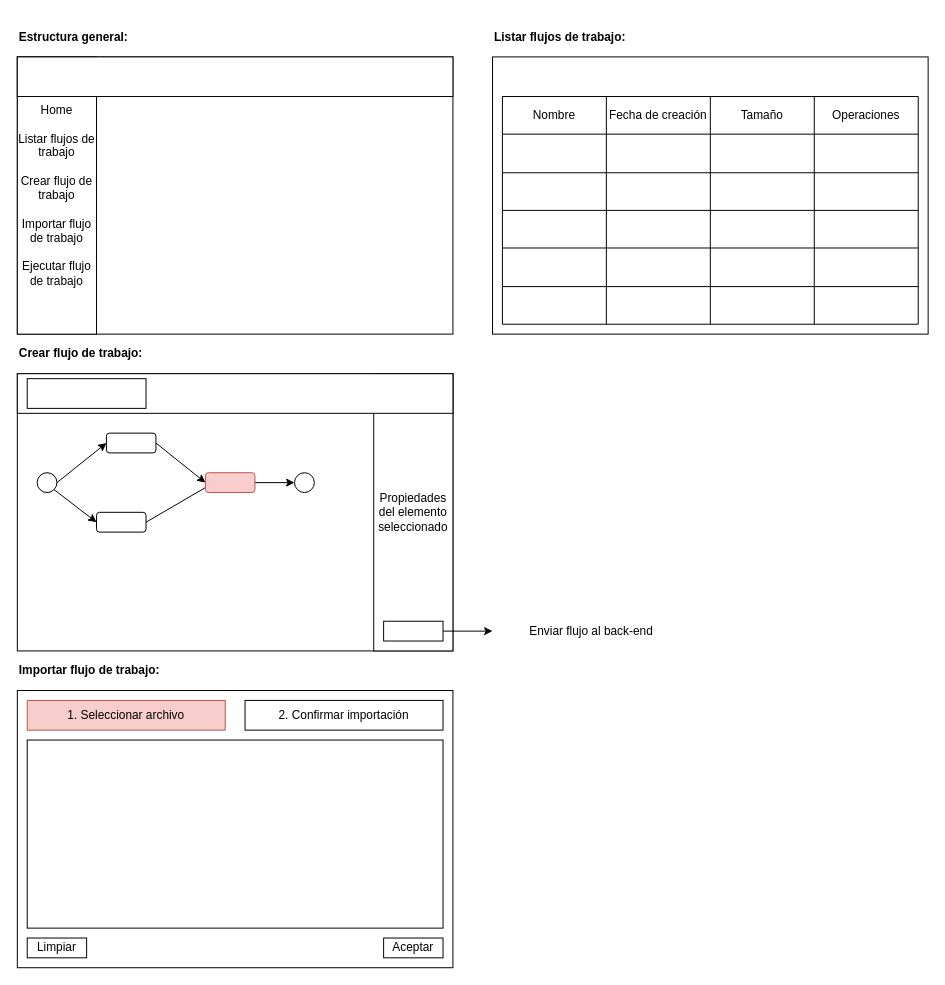
Some shapes in this 945 by 985 pixel diagram are drawn without their labels. Each missing label, with the centre of its shape:
Buscar archivo: the point at 234,833
Guardar: the point at 413,630
Nueva operación: the point at 86,393
